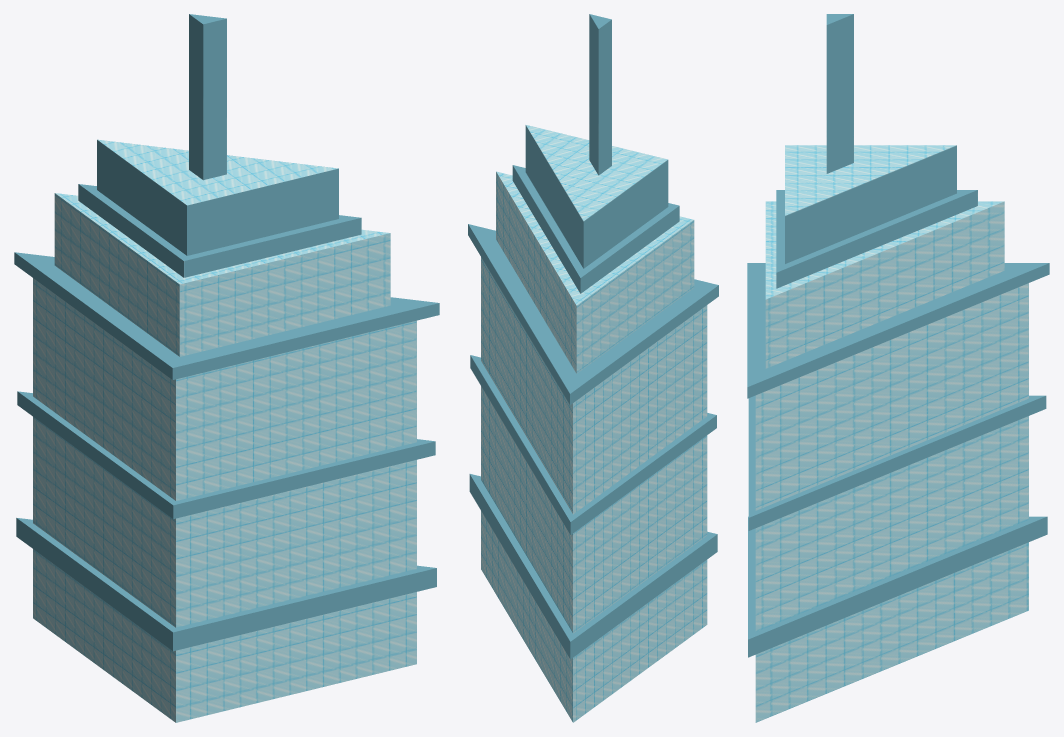
The model's file is bina9.fbx.
The picture shows the model from 3 angles, left to right: view 1: azimuth 30°, elevation 25°; view 2: azimuth 150°, elevation 25°; view 3: azimuth 270°, elevation 25°; orthographic projection. The views are drawn at different scales.
Visible parts, largest first — view 1: bina9_; view 2: bina9_; view 3: bina9_.
Boxes of the visible parts, x1,y1,x2,y2 form: bina9_: (14, 14, 439, 722); bina9_: (468, 14, 718, 722); bina9_: (747, 14, 1049, 722).
Size of the model in its own units: 62.54 by 147 by 64.27.
